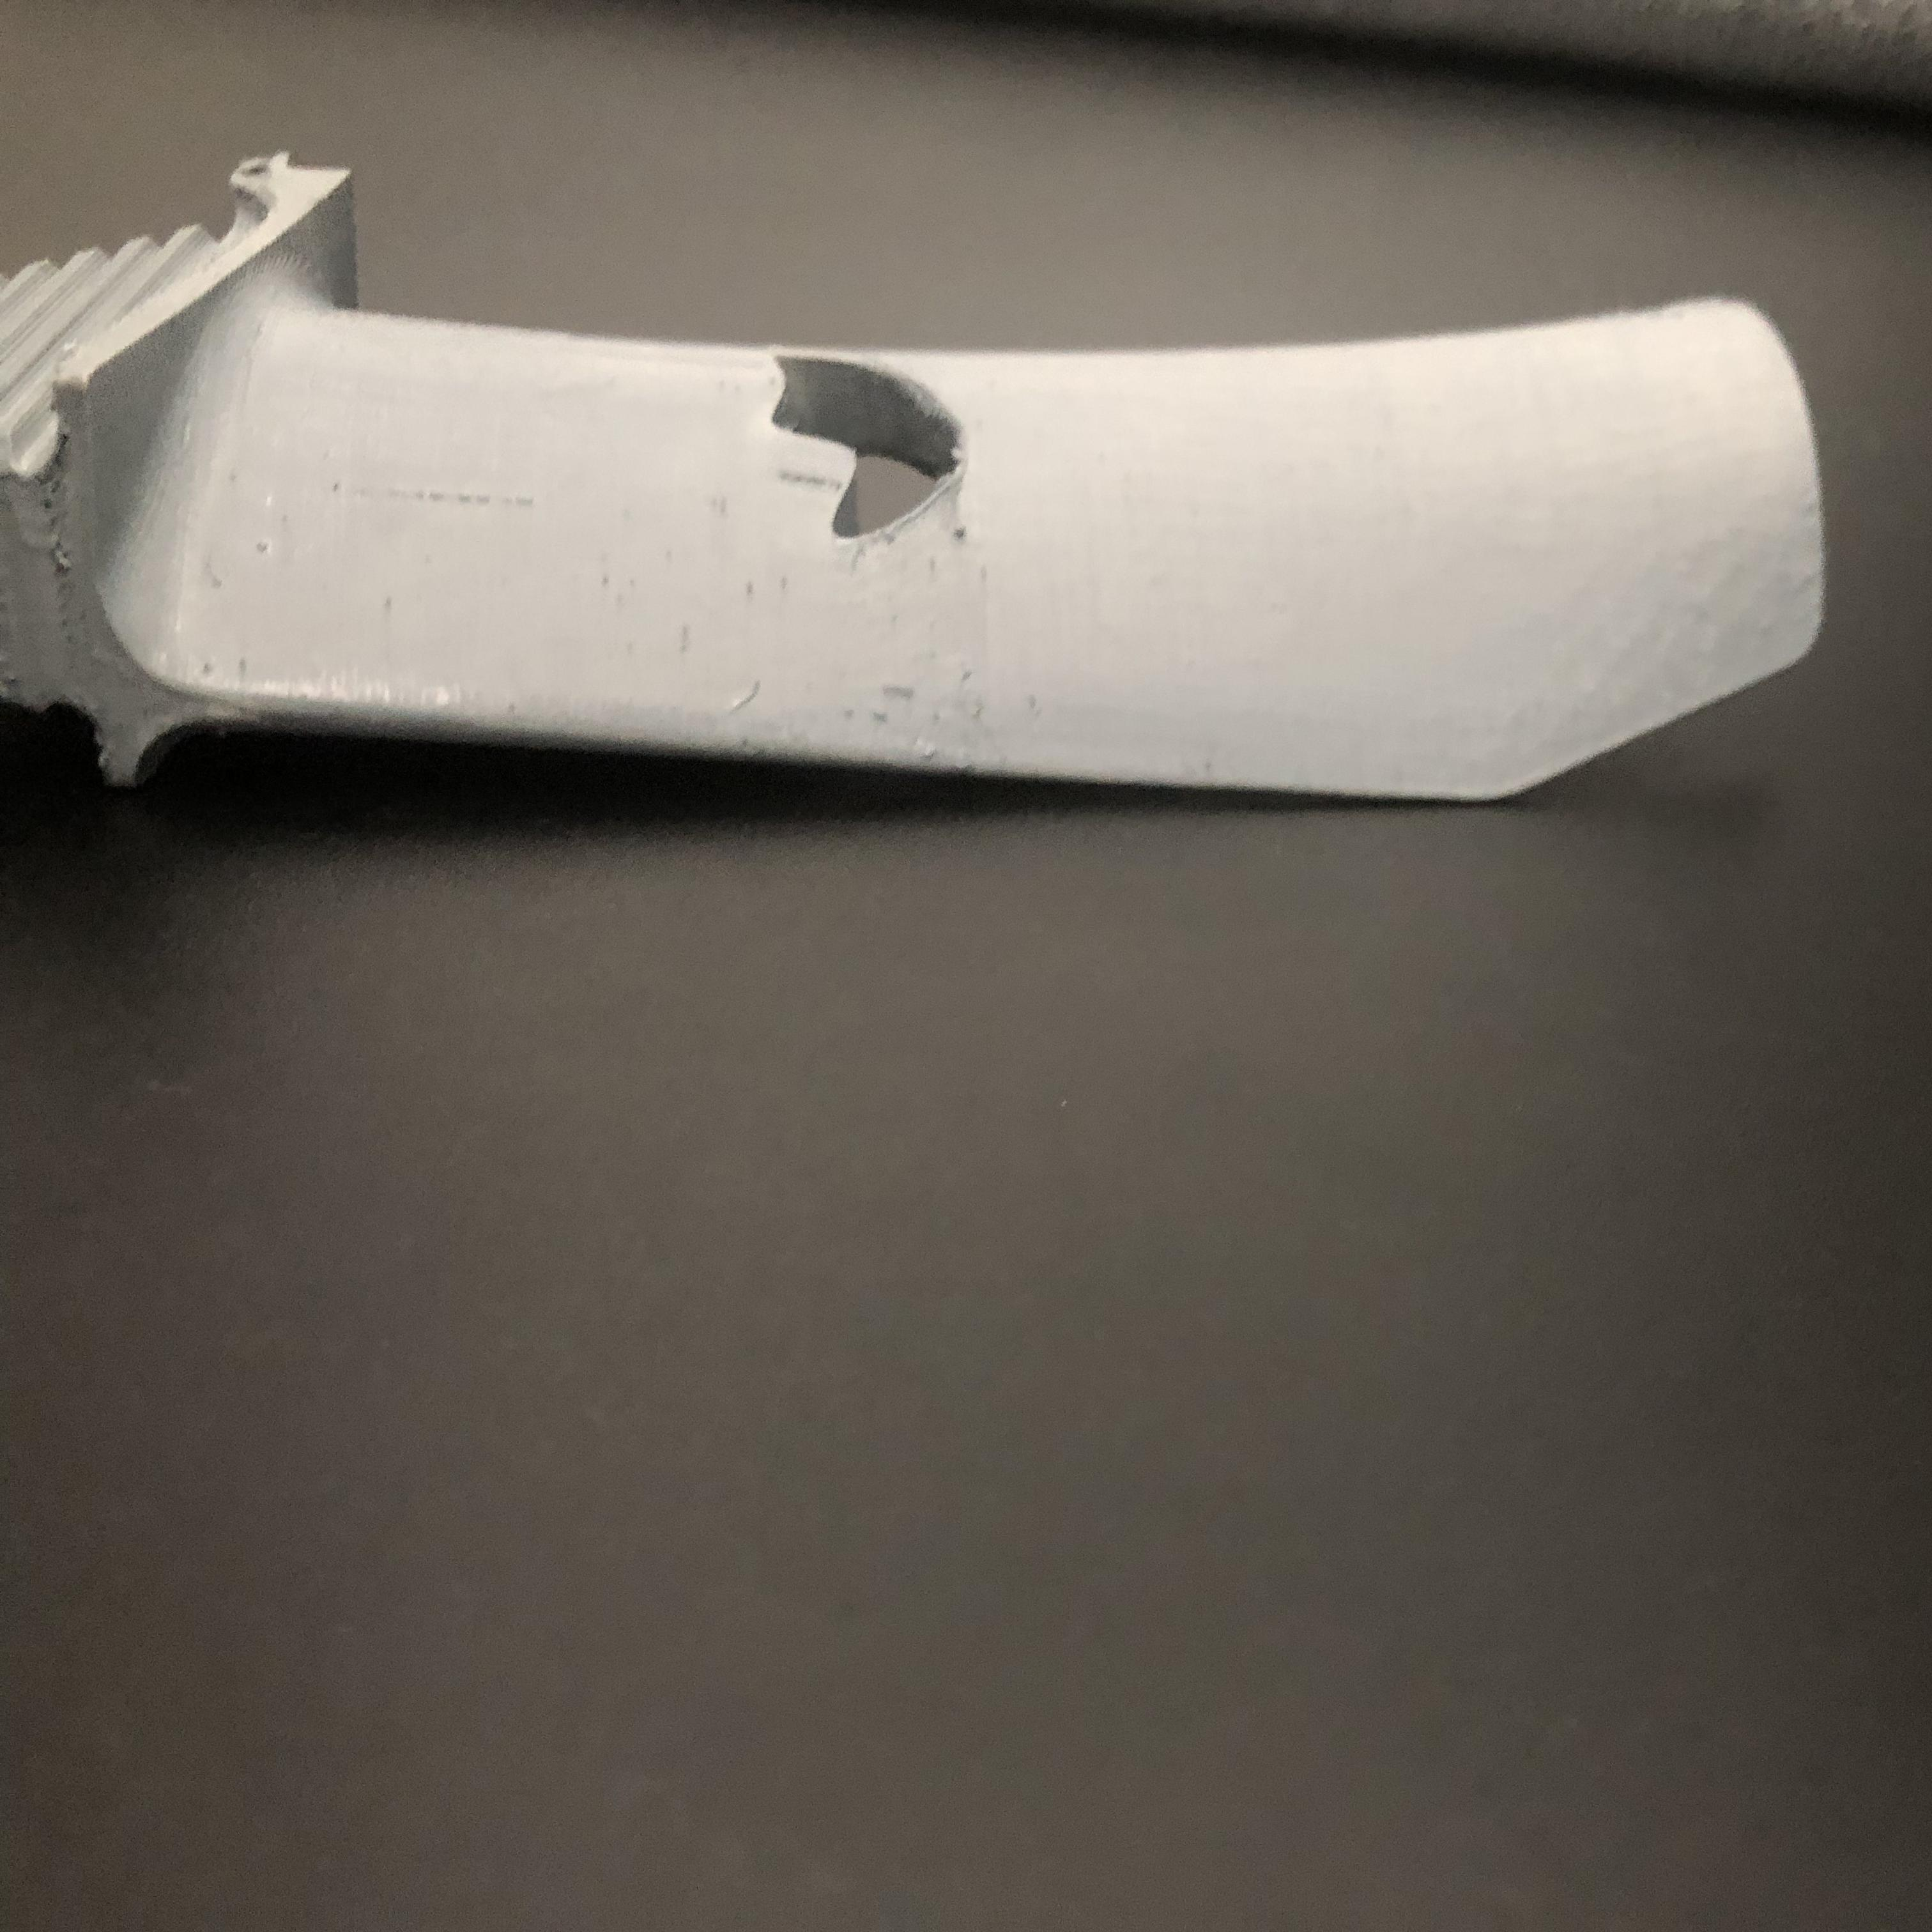breakdown: (752, 349, 994, 543)
